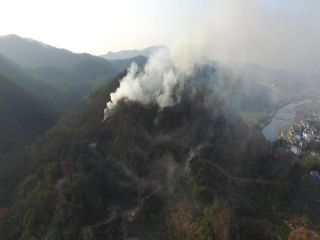smoke: (101, 8, 283, 125)
